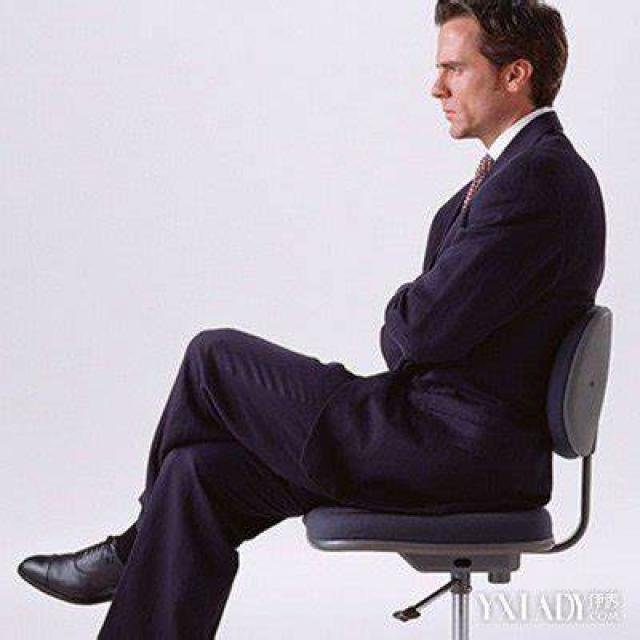sit: (78, 1, 602, 603)
